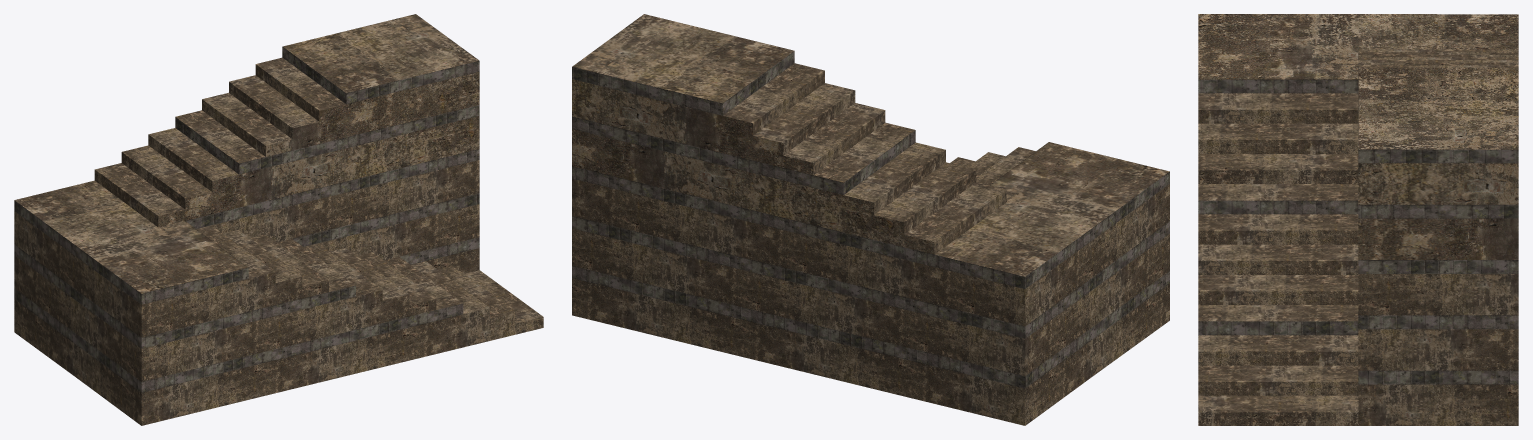
The model's file is materials_5_stairblock_2.fbx.
3 renders of one model, left to right at view 1: azimuth 30°, elevation 25°; view 2: azimuth 150°, elevation 25°; view 3: azimuth 270°, elevation 25°, orthographic. The views are drawn at different scales.
Visible parts, largest first — view 1: materials_5_stairblock_2; view 2: materials_5_stairblock_2; view 3: materials_5_stairblock_2.
Boxes of the visible parts, left/top/right/bottom form: materials_5_stairblock_2: left=14, top=14, right=543, bottom=425; materials_5_stairblock_2: left=572, top=14, right=1169, bottom=425; materials_5_stairblock_2: left=1198, top=14, right=1518, bottom=425.
Bounding box in the file's own units: 547 × 287 × 301.
